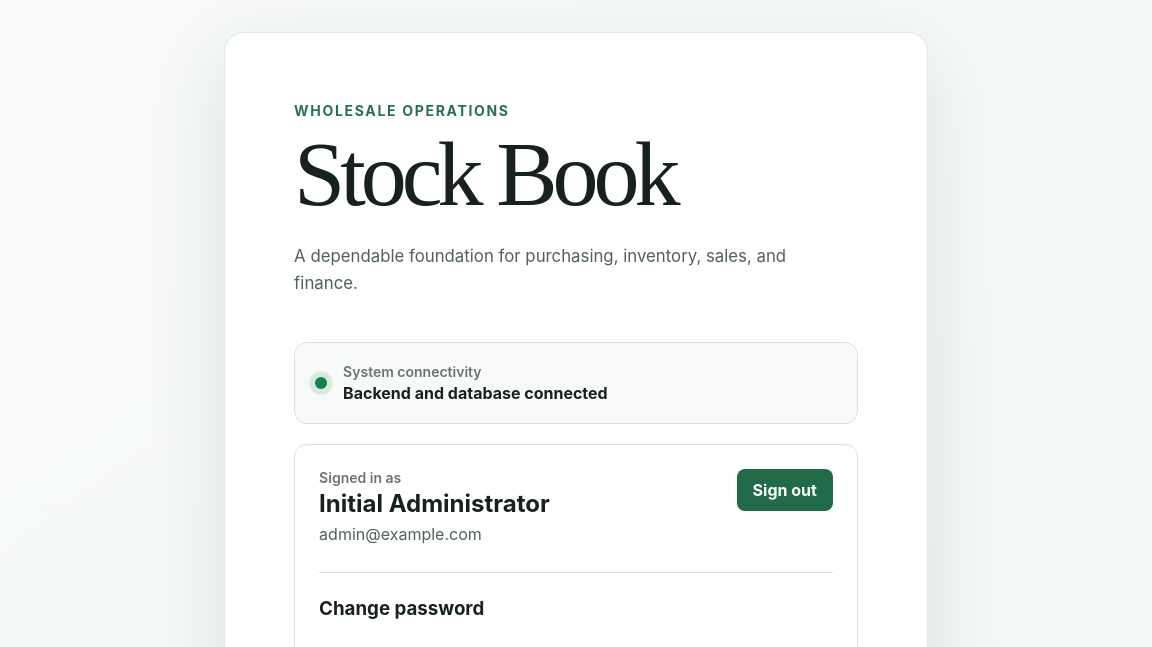
Test: authentication › signs out an existing session
Expected: the heading "Initial Administrator" is shown, [319,489,550,518]
Click the button "Sign out" at (785, 490), box [737,469,833,512]
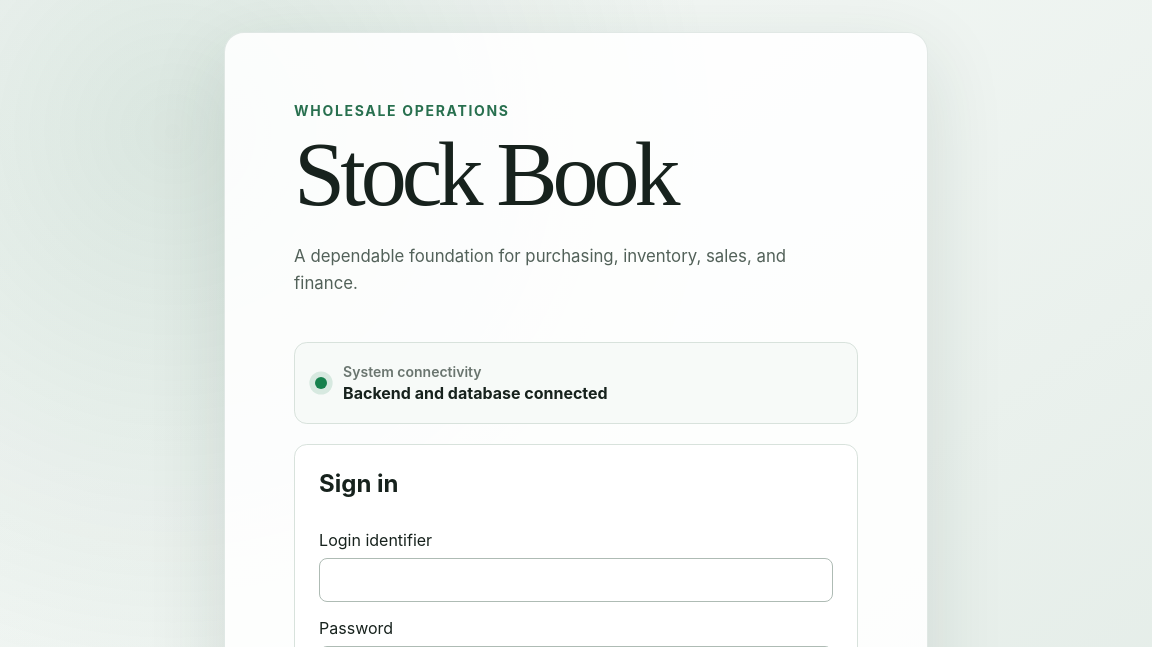
Result: the heading "Sign in" is shown at [319,469,399,498]
